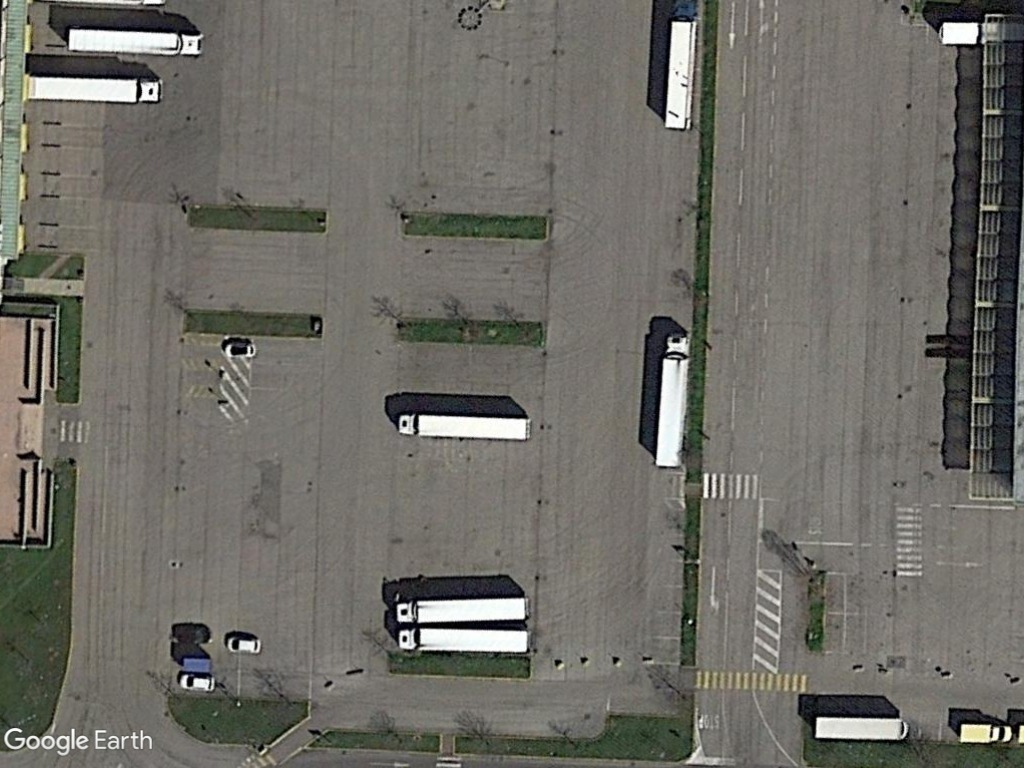car: (175, 670, 219, 694), (221, 633, 266, 656), (222, 339, 261, 362)
longvehicle: (650, 330, 693, 473), (393, 407, 538, 447), (61, 22, 208, 60), (24, 72, 169, 107), (390, 593, 533, 625), (662, 15, 698, 134), (392, 627, 532, 654), (810, 711, 909, 745)
truck: (955, 717, 1017, 747)
